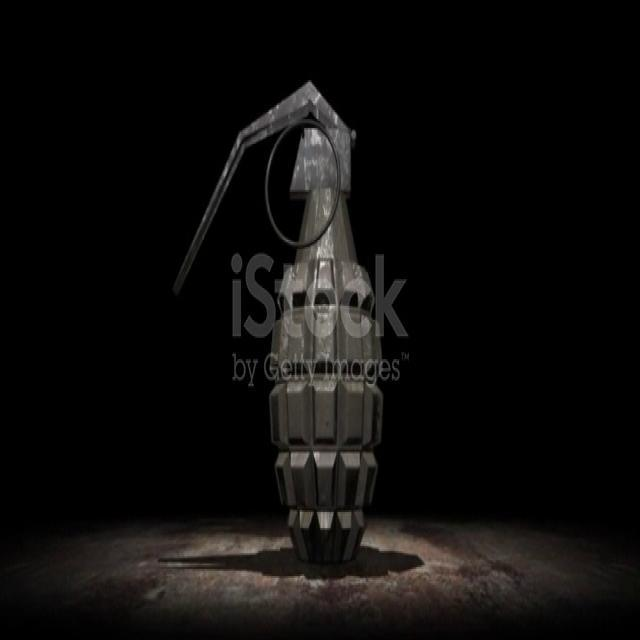grenade: (176, 69, 381, 559)
